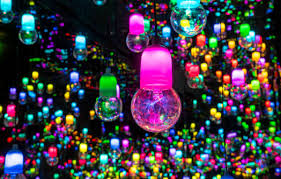bulb: (127, 67, 194, 135), (85, 81, 128, 128), (166, 1, 214, 41), (117, 24, 156, 54), (17, 20, 41, 52)
